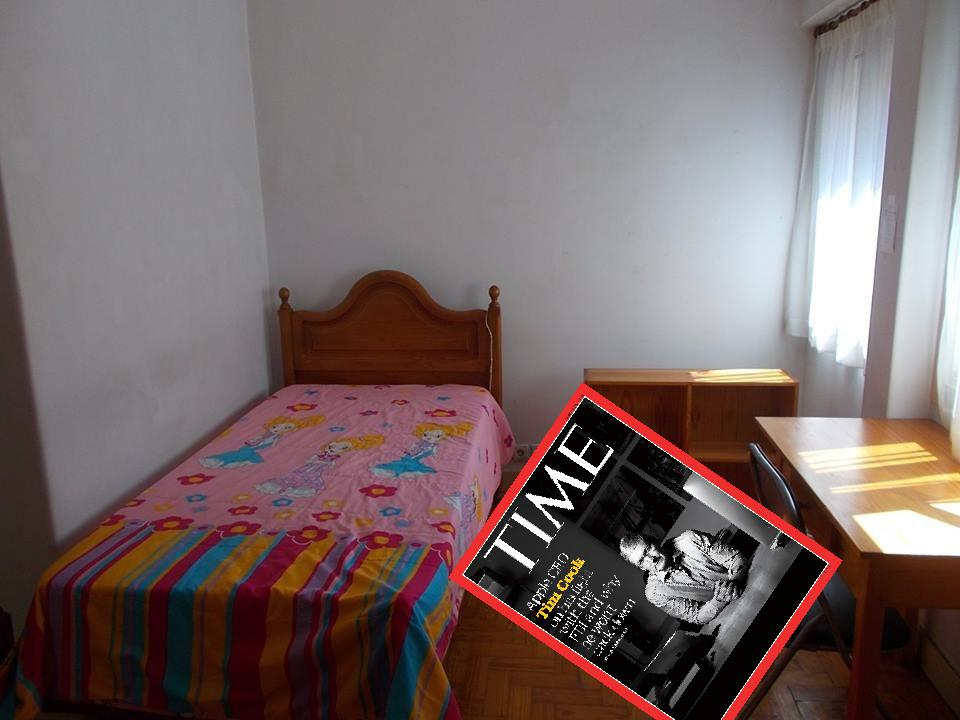times: (453, 376, 843, 719)
